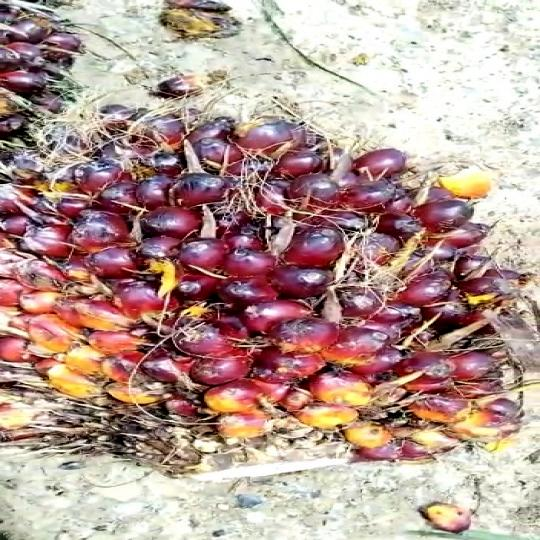masak: (0, 100, 540, 484)
